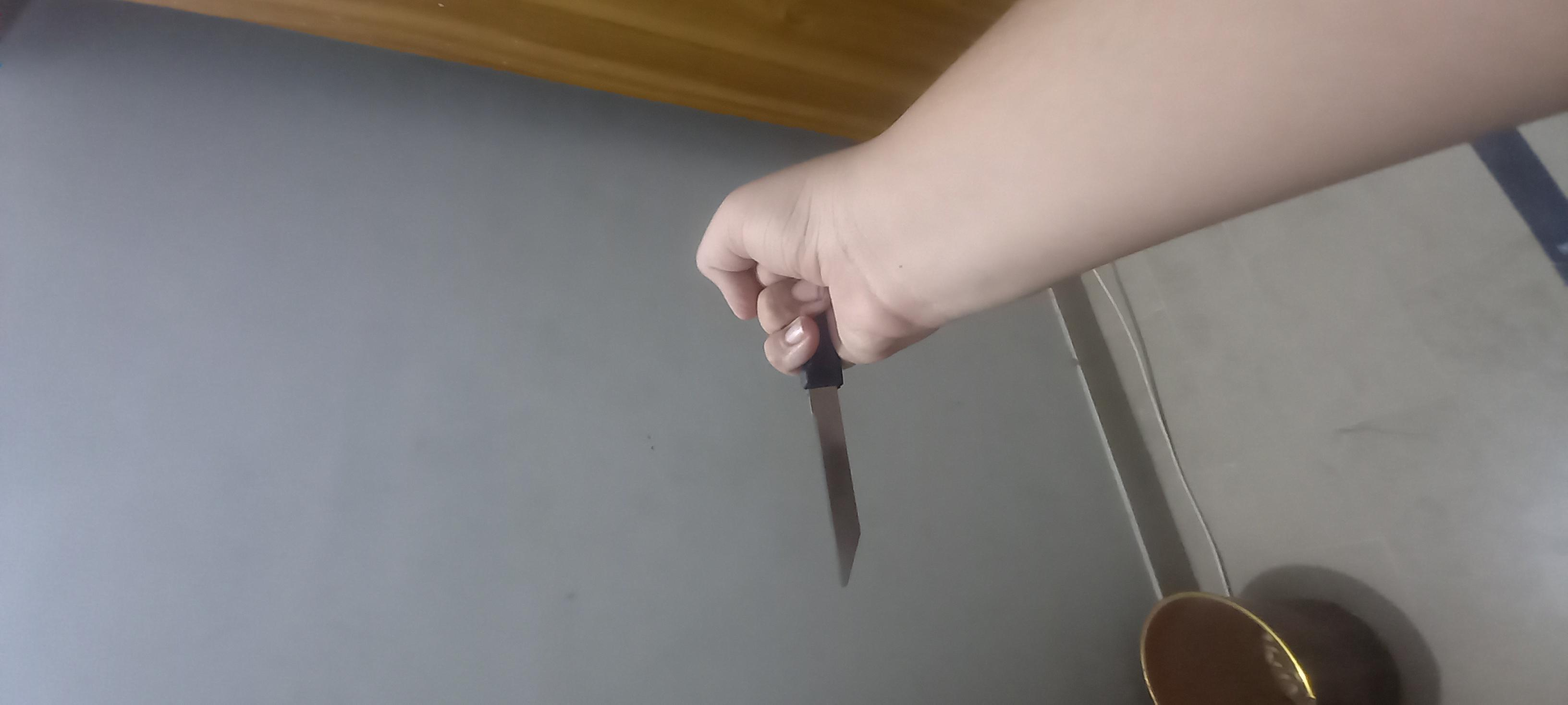knives: (246, 347, 983, 400)
